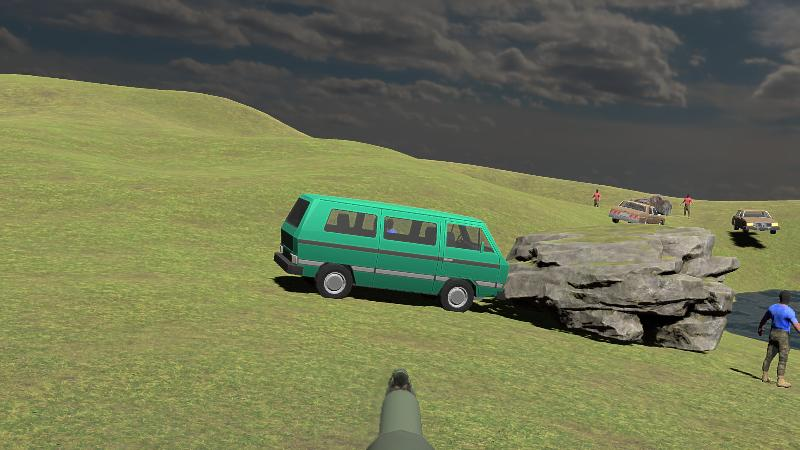Human: (757, 290, 800, 389)
car: (276, 195, 509, 312), (608, 199, 665, 229), (731, 207, 780, 236)
